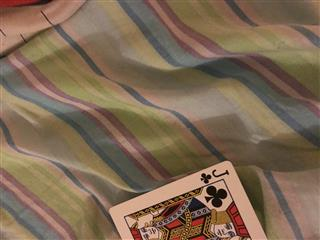JackOfClubs: (107, 159, 268, 240)
